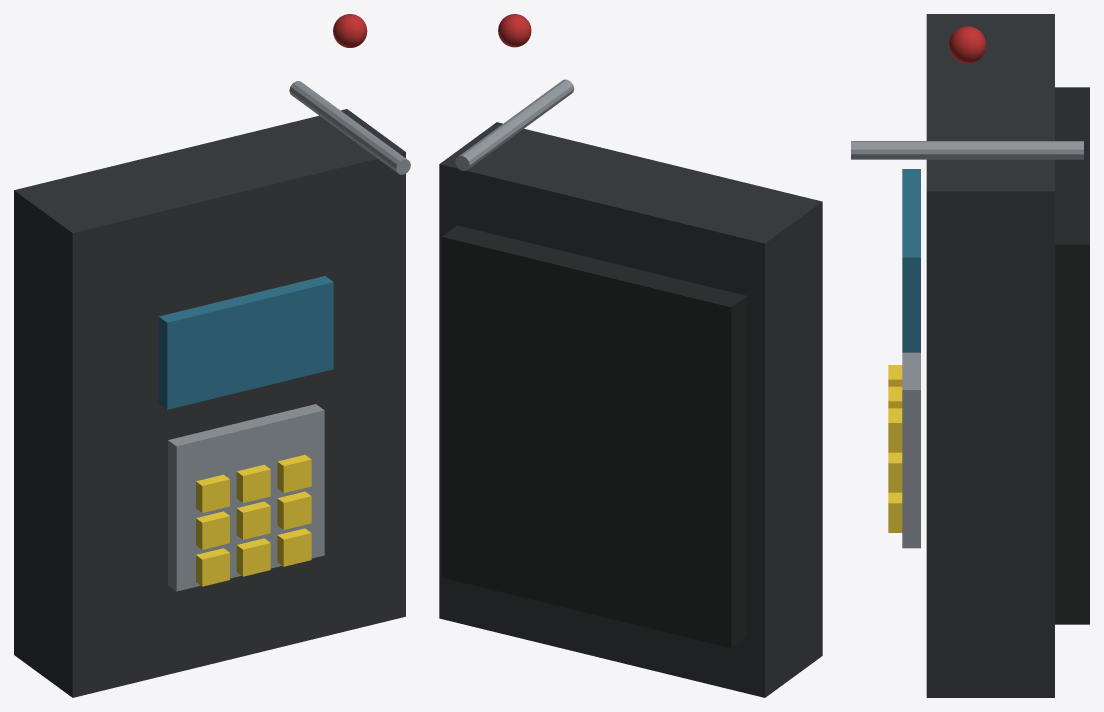
Rendered from breaching_charge.glb.
3 views of the same model, side by side, from view 1: azimuth 30°, elevation 25°; view 2: azimuth 150°, elevation 25°; view 3: azimuth 270°, elevation 25° (orthographic). The views are drawn at different scales.
Visible parts, largest first — view 1: Body, Screen, Keypad, Antenna, K12, K01, K02, K22, K11, K21, K00, K10 (+2 smaller); view 2: Pad, Body, Antenna, Cap; view 3: Body, Pad, Antenna, Keypad, Screen, Cap, K02, K12, K22.
Part boxes in pixels (bbox=[...]): Body: bbox=[14, 109, 405, 697]; Screen: bbox=[158, 276, 333, 409]; Keypad: bbox=[168, 404, 324, 591]; Antenna: bbox=[289, 81, 410, 174]; K12: bbox=[277, 491, 311, 529]; K01: bbox=[236, 464, 270, 502]; K02: bbox=[277, 455, 311, 492]; K22: bbox=[277, 528, 311, 566]; K11: bbox=[236, 501, 270, 539]; K21: bbox=[236, 538, 270, 576]; K00: bbox=[196, 474, 229, 512]; K10: bbox=[196, 511, 229, 549]; Pad: bbox=[442, 225, 746, 647]; Body: bbox=[439, 122, 822, 697]; Antenna: bbox=[455, 79, 574, 170]; Cap: bbox=[498, 14, 531, 47]; Body: bbox=[926, 14, 1054, 697]; Pad: bbox=[1055, 87, 1089, 624]; Antenna: bbox=[851, 141, 1083, 159]; Keypad: bbox=[902, 352, 920, 548]; Screen: bbox=[902, 169, 920, 352]; Cap: bbox=[949, 26, 986, 63]; K02: bbox=[888, 408, 902, 452]; K12: bbox=[888, 452, 902, 492]; K22: bbox=[888, 492, 902, 532].
Bounding box in the file's own units: 0.18 × 0.308 × 0.1025.
